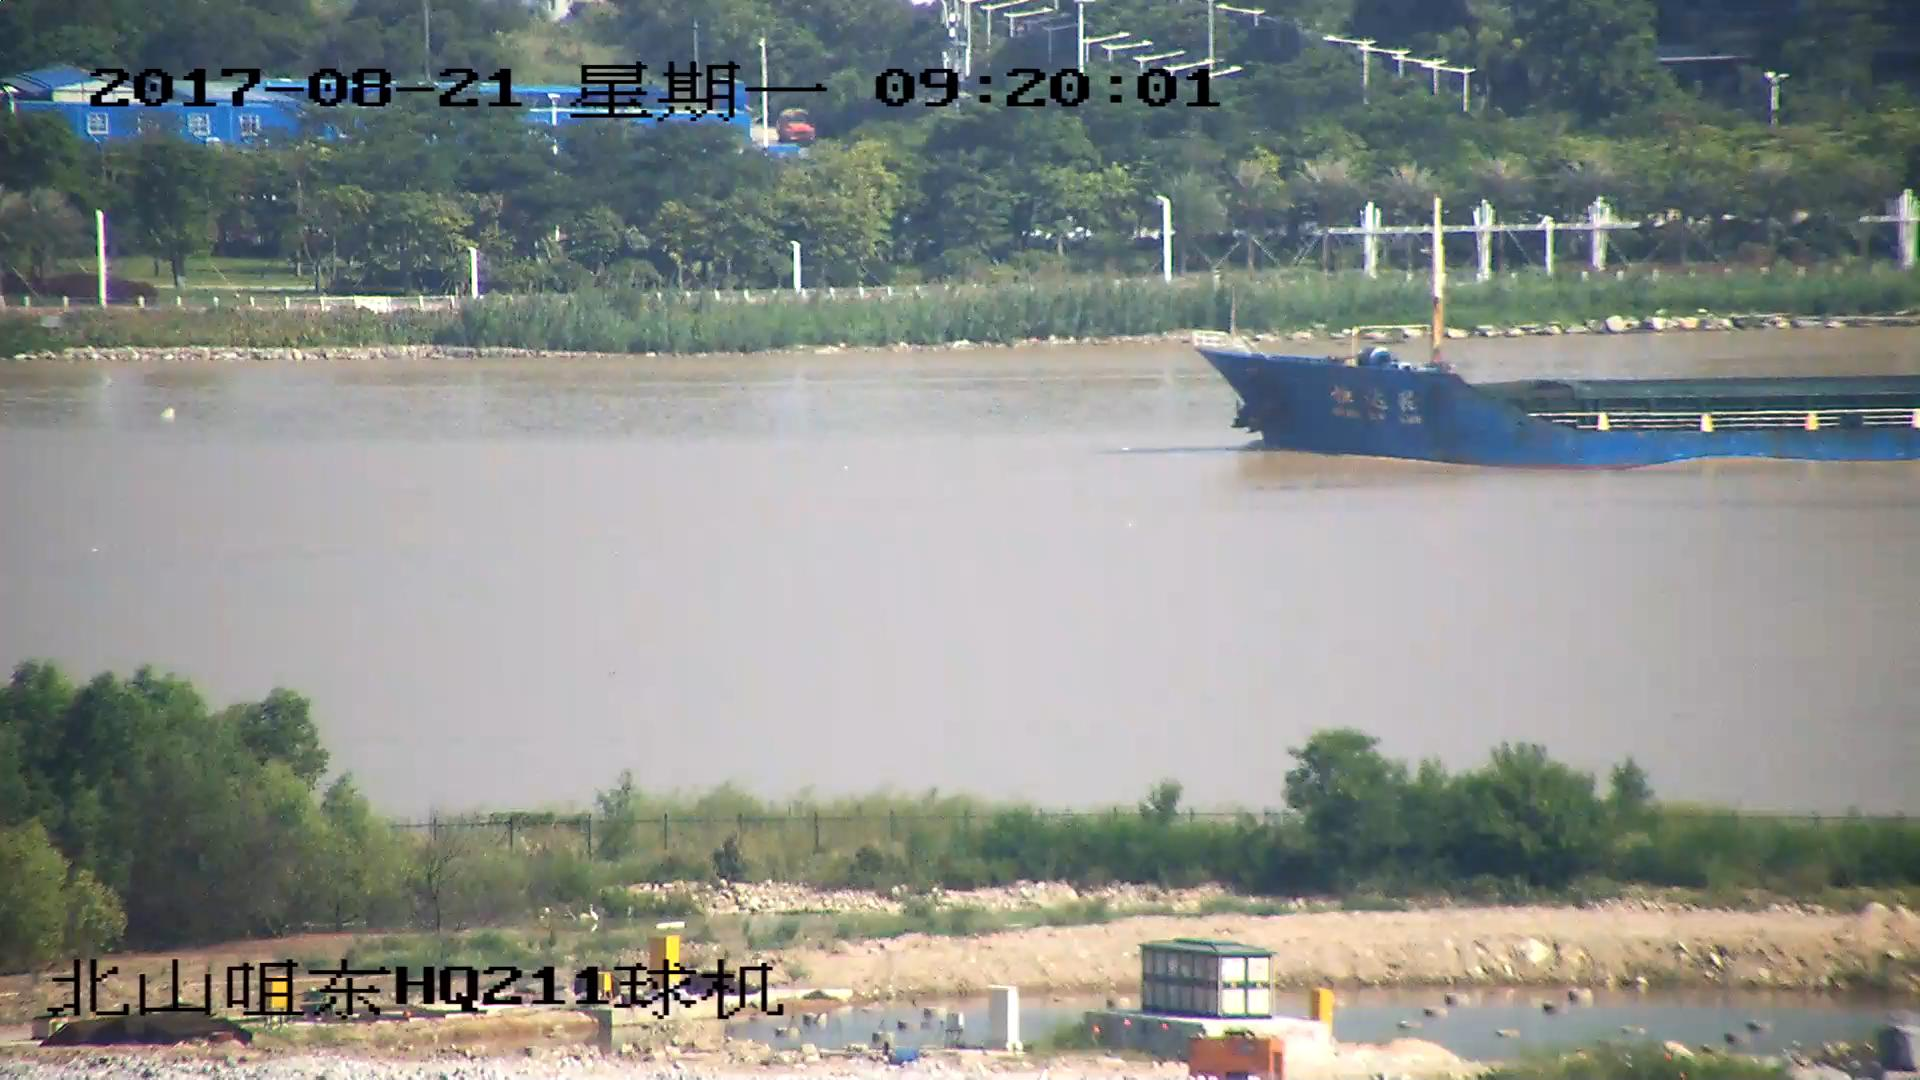general cargo ship: (1199, 200, 1920, 468)
